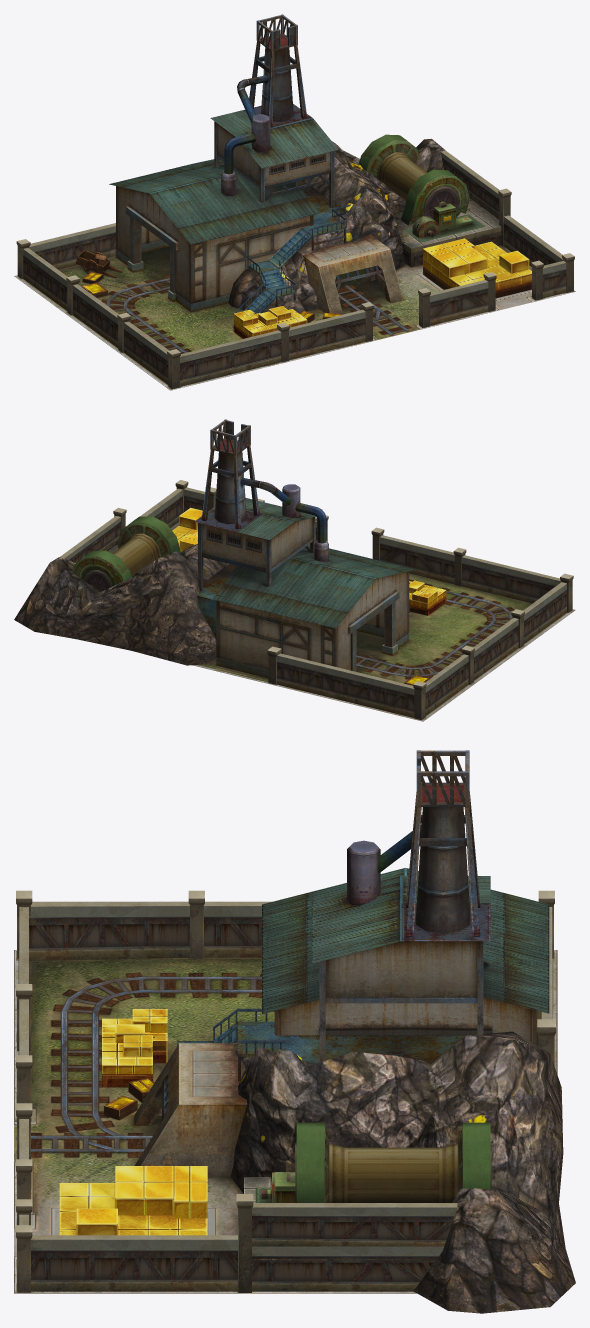
File: Dhz_GoldMine_03.FBX
3 views of the same model, one above another, from view 1: azimuth 30°, elevation 25°; view 2: azimuth 150°, elevation 25°; view 3: azimuth 270°, elevation 25° (orthographic). The views are drawn at different scales.
Parts seen in each view (by area): view 1: Dhz_GoldMine_03; view 2: Dhz_GoldMine_03; view 3: Dhz_GoldMine_03.
Part boxes in pixels (x1=…): Dhz_GoldMine_03: x1=14, y1=14, x2=575, y2=390; Dhz_GoldMine_03: x1=14, y1=419, x2=575, y2=721; Dhz_GoldMine_03: x1=14, y1=750, x2=575, y2=1313.
Size of the model in its own units: 196 by 99.12 by 128.
